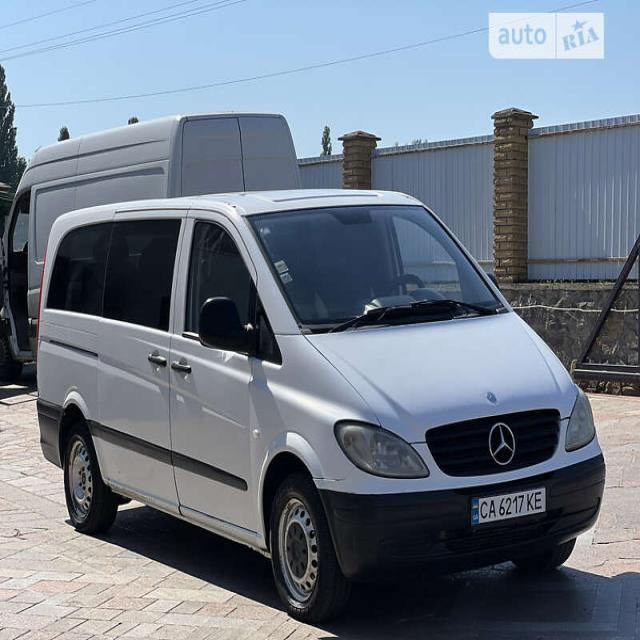plate: (466, 485, 553, 527)
